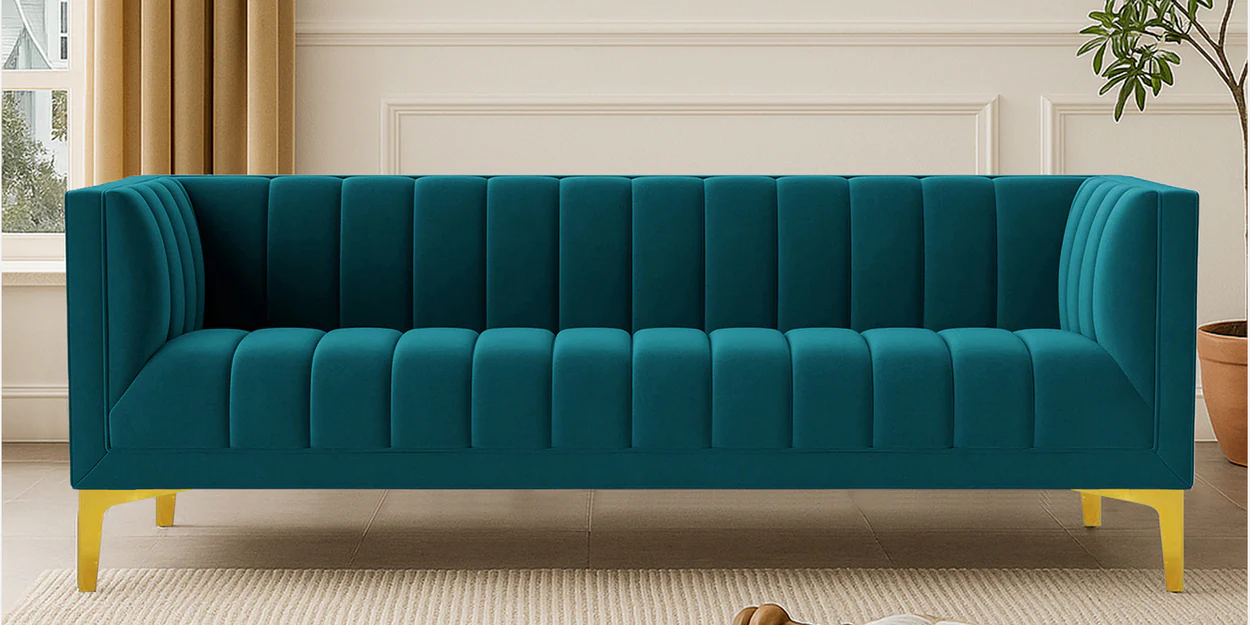3seatersofa: (67, 175, 1197, 591)
backrest: (185, 176, 1080, 329)
base: (75, 449, 1192, 488)
leftarmrest: (1059, 176, 1197, 486)
leg: (77, 489, 185, 591), (1078, 490, 1183, 592)
rightarmrest: (67, 176, 203, 486)
seat: (109, 327, 1151, 449)
